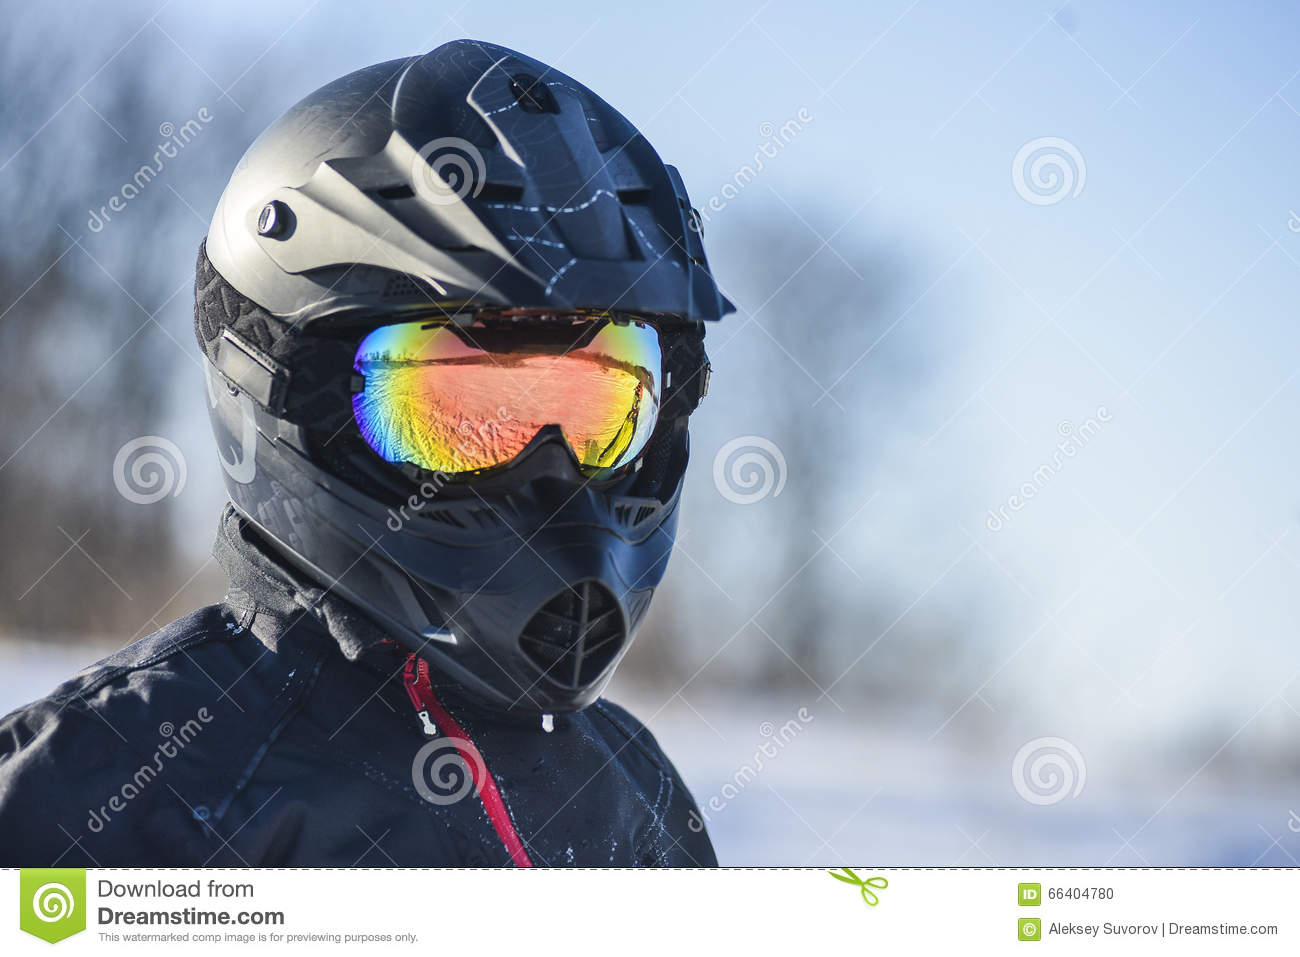helmet: (189, 79, 755, 741)
